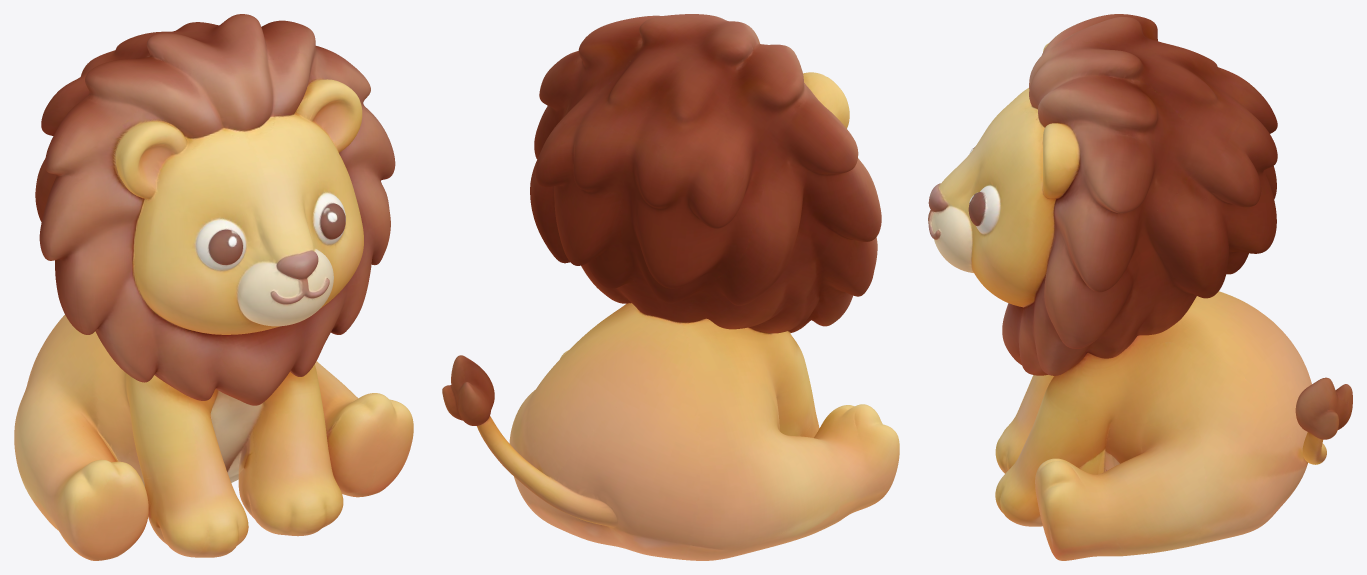
Rendered from Leone.glb.
3 renders of one model, left to right at view 1: azimuth 30°, elevation 25°; view 2: azimuth 150°, elevation 25°; view 3: azimuth 270°, elevation 25°, orthographic. The views are drawn at different scales.
Size of the model in its own units: 1.46 by 1.9 by 1.61.
Materials: 1 (1 with a texture image).
